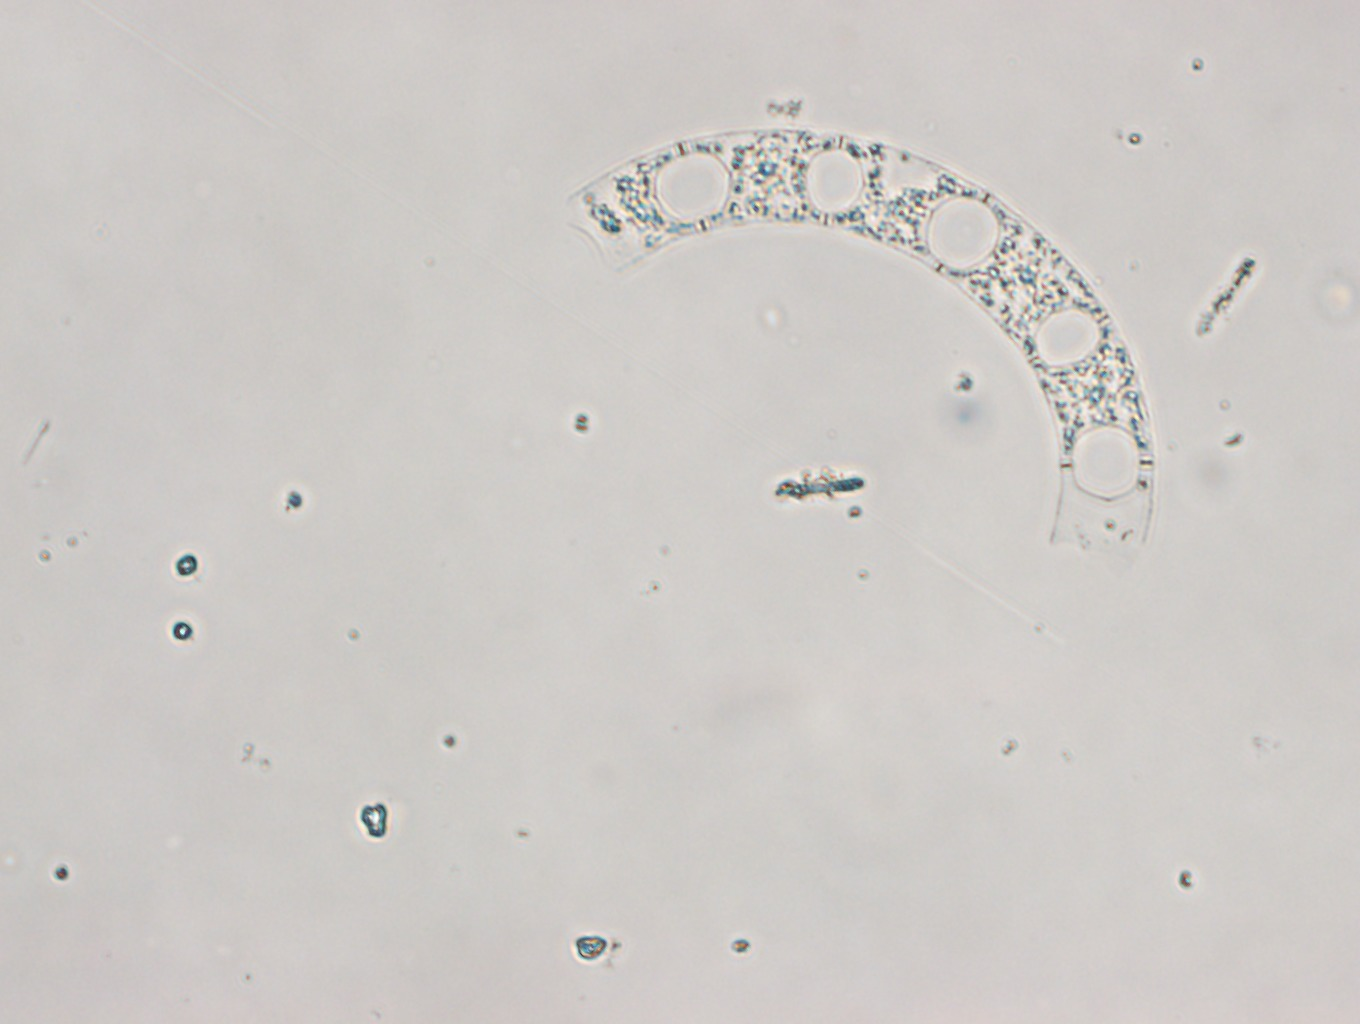eucampia: (561, 126, 1156, 566)
